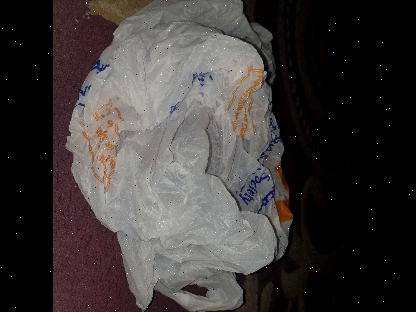Others: (60, 0, 296, 312)
